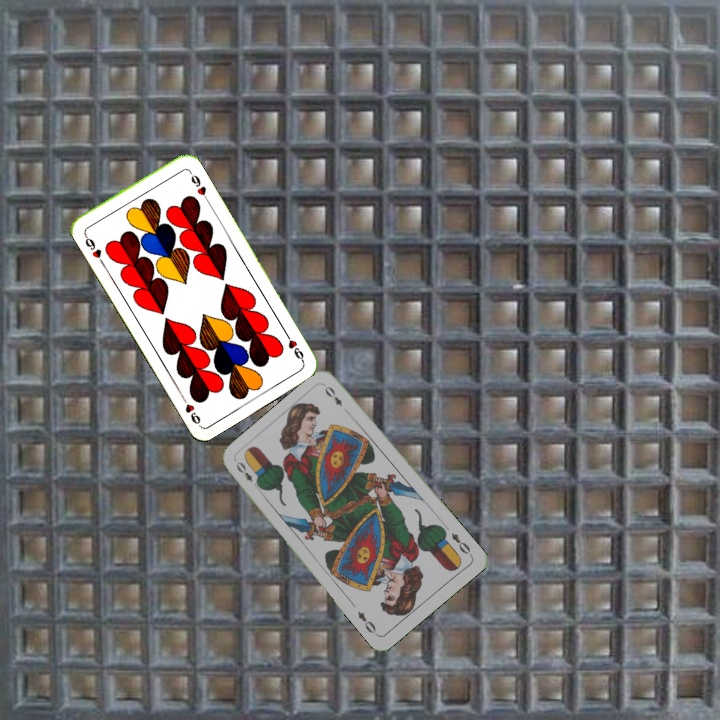EO: (232, 457, 262, 492), (447, 528, 475, 559)
H9: (281, 328, 307, 365), (80, 228, 105, 266)
